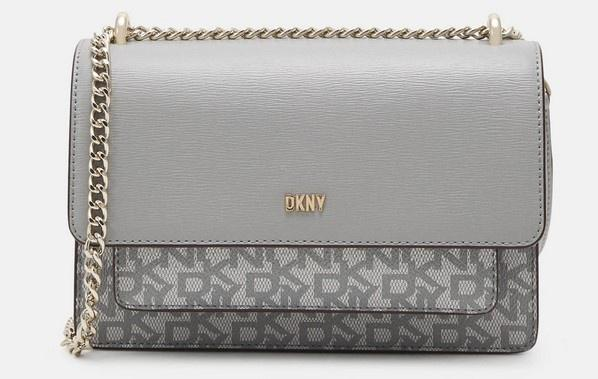DKNY: (284, 193, 326, 212)
